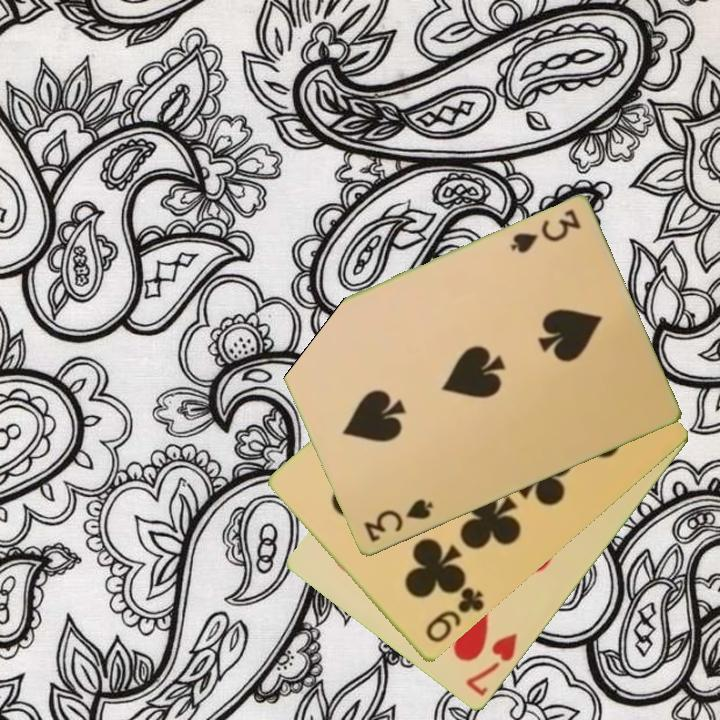3s: (506, 206, 583, 257), (360, 496, 436, 546)
7h: (462, 630, 521, 700)
9c: (422, 584, 488, 647)
